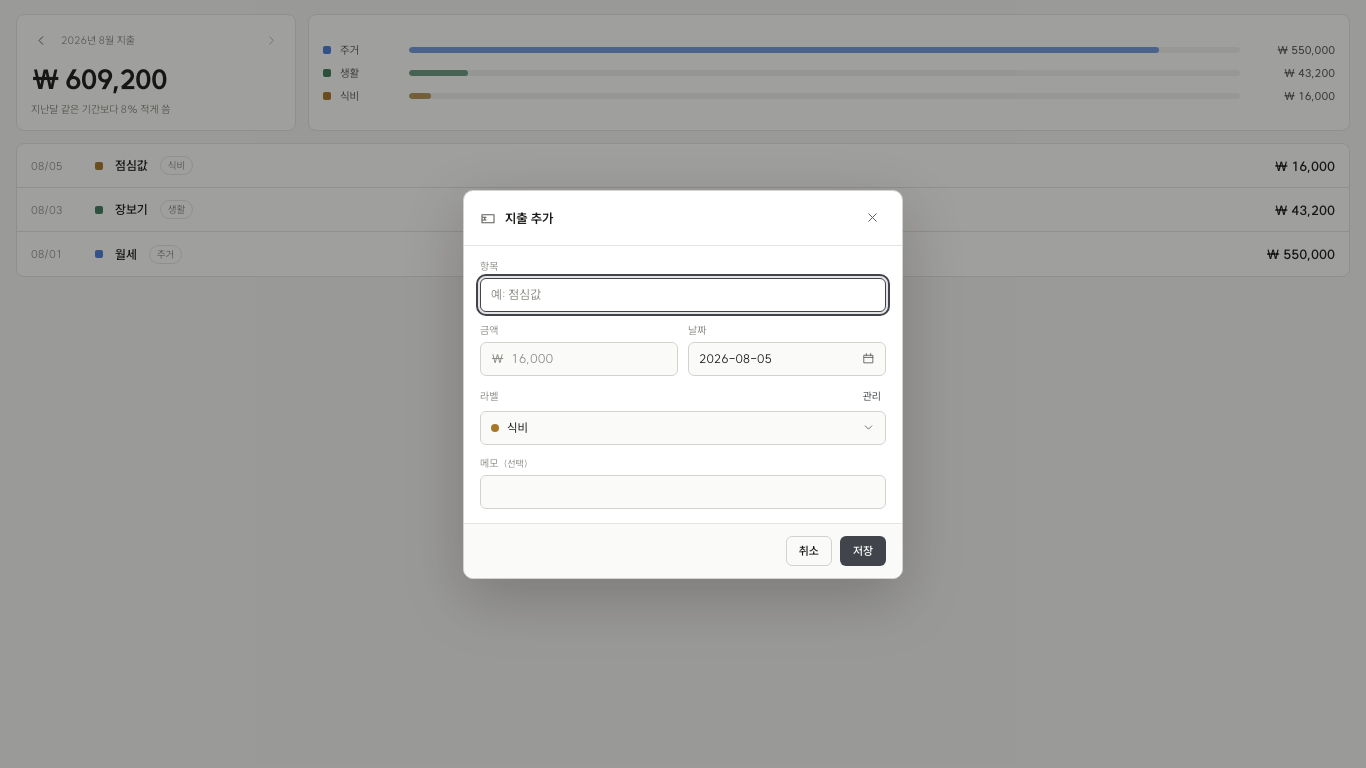
LedgerPage › preserves input values on creation failure and returns focus to the item input
Type "저녁 식사" into the field labelled "항목".
click(683, 294); type("저녁 식사")  # box [480,278,886,312]
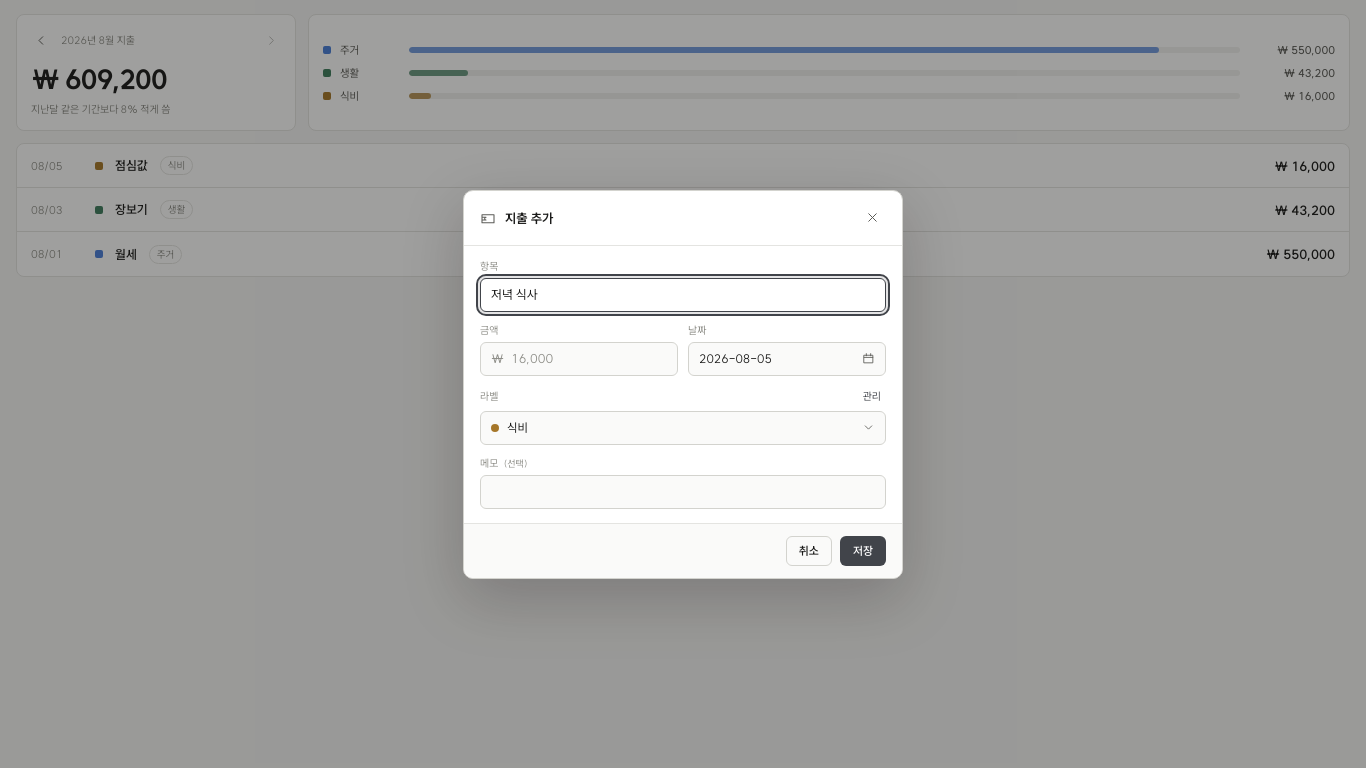
Type "12345" into the field labelled "금액".
click(589, 358); type("12345")  # box [511,342,667,374]
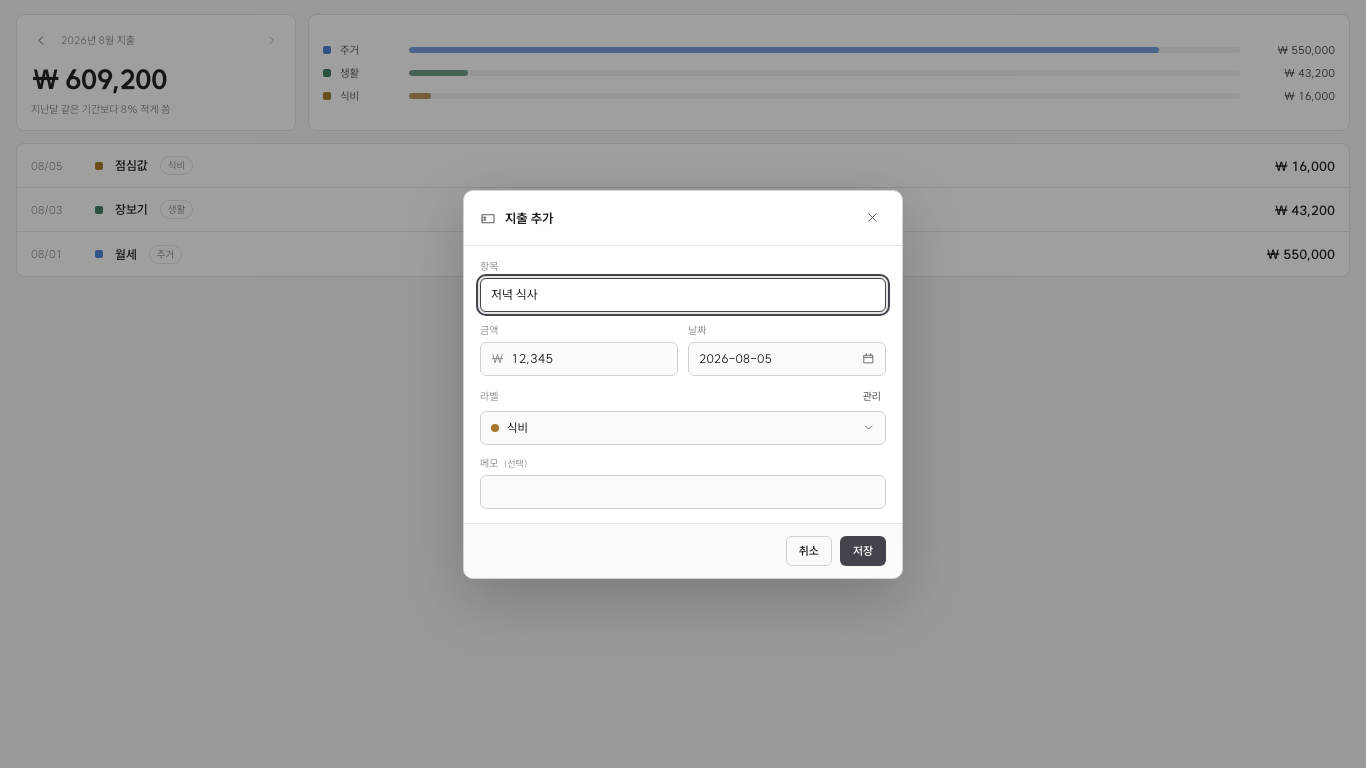
Expected: the field labelled "금액" holds "12,345", [511,342,667,374]
Click the button "저장".
click(863, 550)  # box [840,536,886,566]
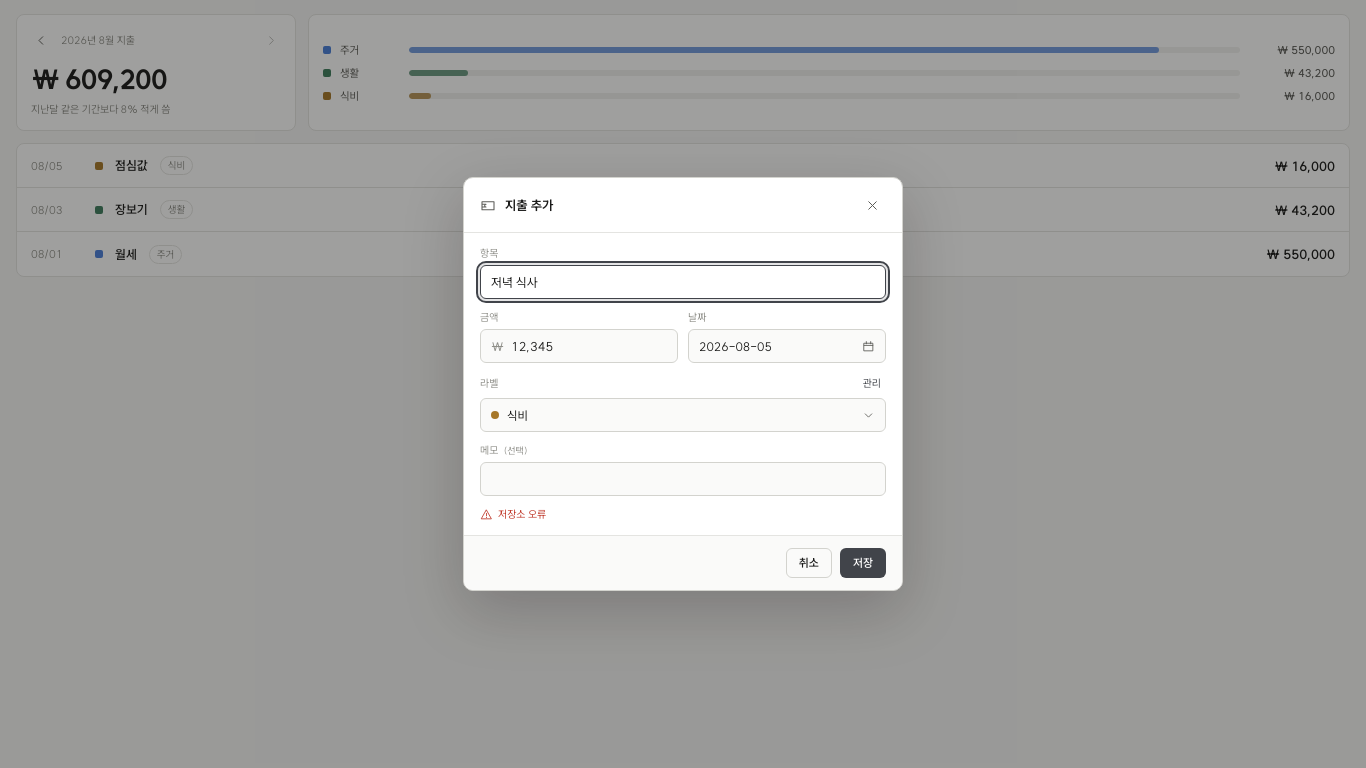
Expected: the field labelled "금액" holds "12,345", [511,330,667,362]
Expected: the message reads "저장소 오류", [498,508,546,521]
